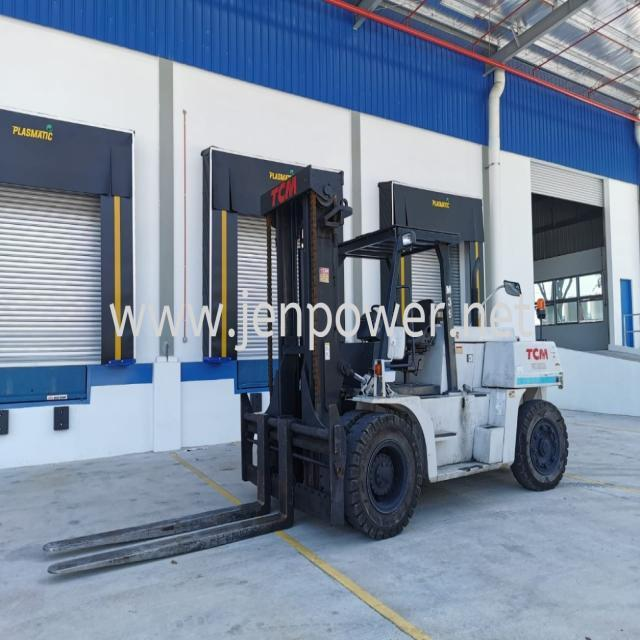forklift: (237, 154, 574, 544)
